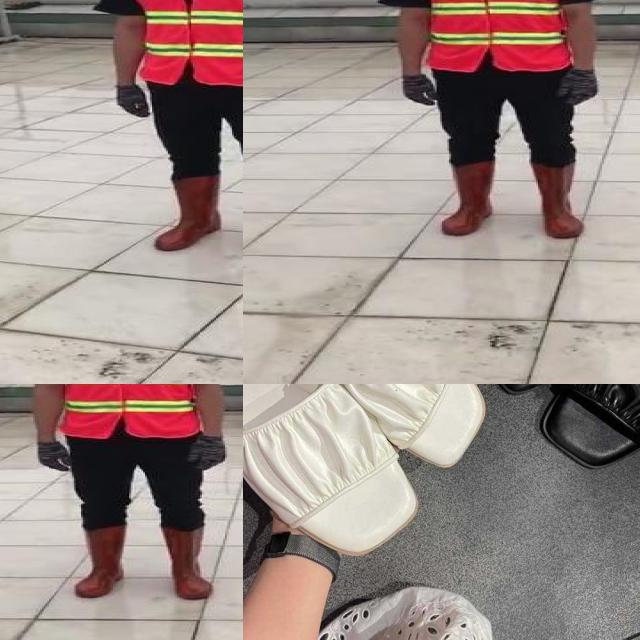Sandals: (243, 384, 499, 564), (467, 384, 640, 475)
boots: (154, 176, 226, 252), (154, 525, 218, 598), (439, 163, 497, 234), (533, 162, 586, 238), (74, 527, 127, 597)
hand_glove: (33, 439, 79, 471), (560, 68, 598, 106), (401, 73, 439, 107), (188, 437, 226, 470), (115, 85, 150, 120)
person: (382, 0, 613, 243), (17, 384, 236, 609), (96, 0, 243, 266)
vest: (417, 0, 571, 74), (122, 0, 243, 87), (48, 384, 198, 437)
